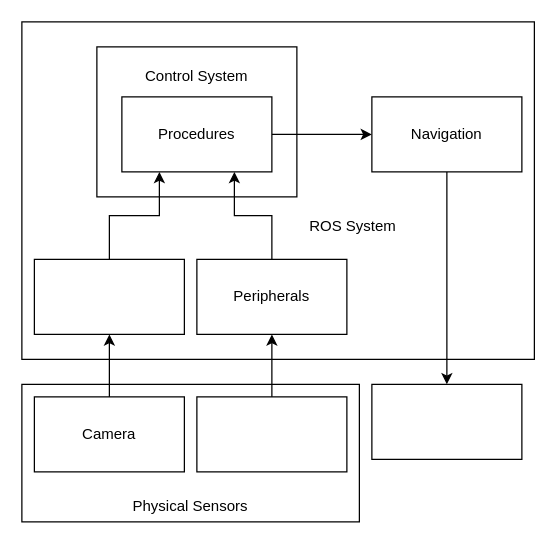
This 556x544 diagram has some shape labels left out. Here are the shapes that lost their labels. From the top down, the box of each, then its label:
(33, 258, 184, 334): Vision
(196, 396, 347, 472): Sensors
(371, 383, 522, 459): Physical Motors
